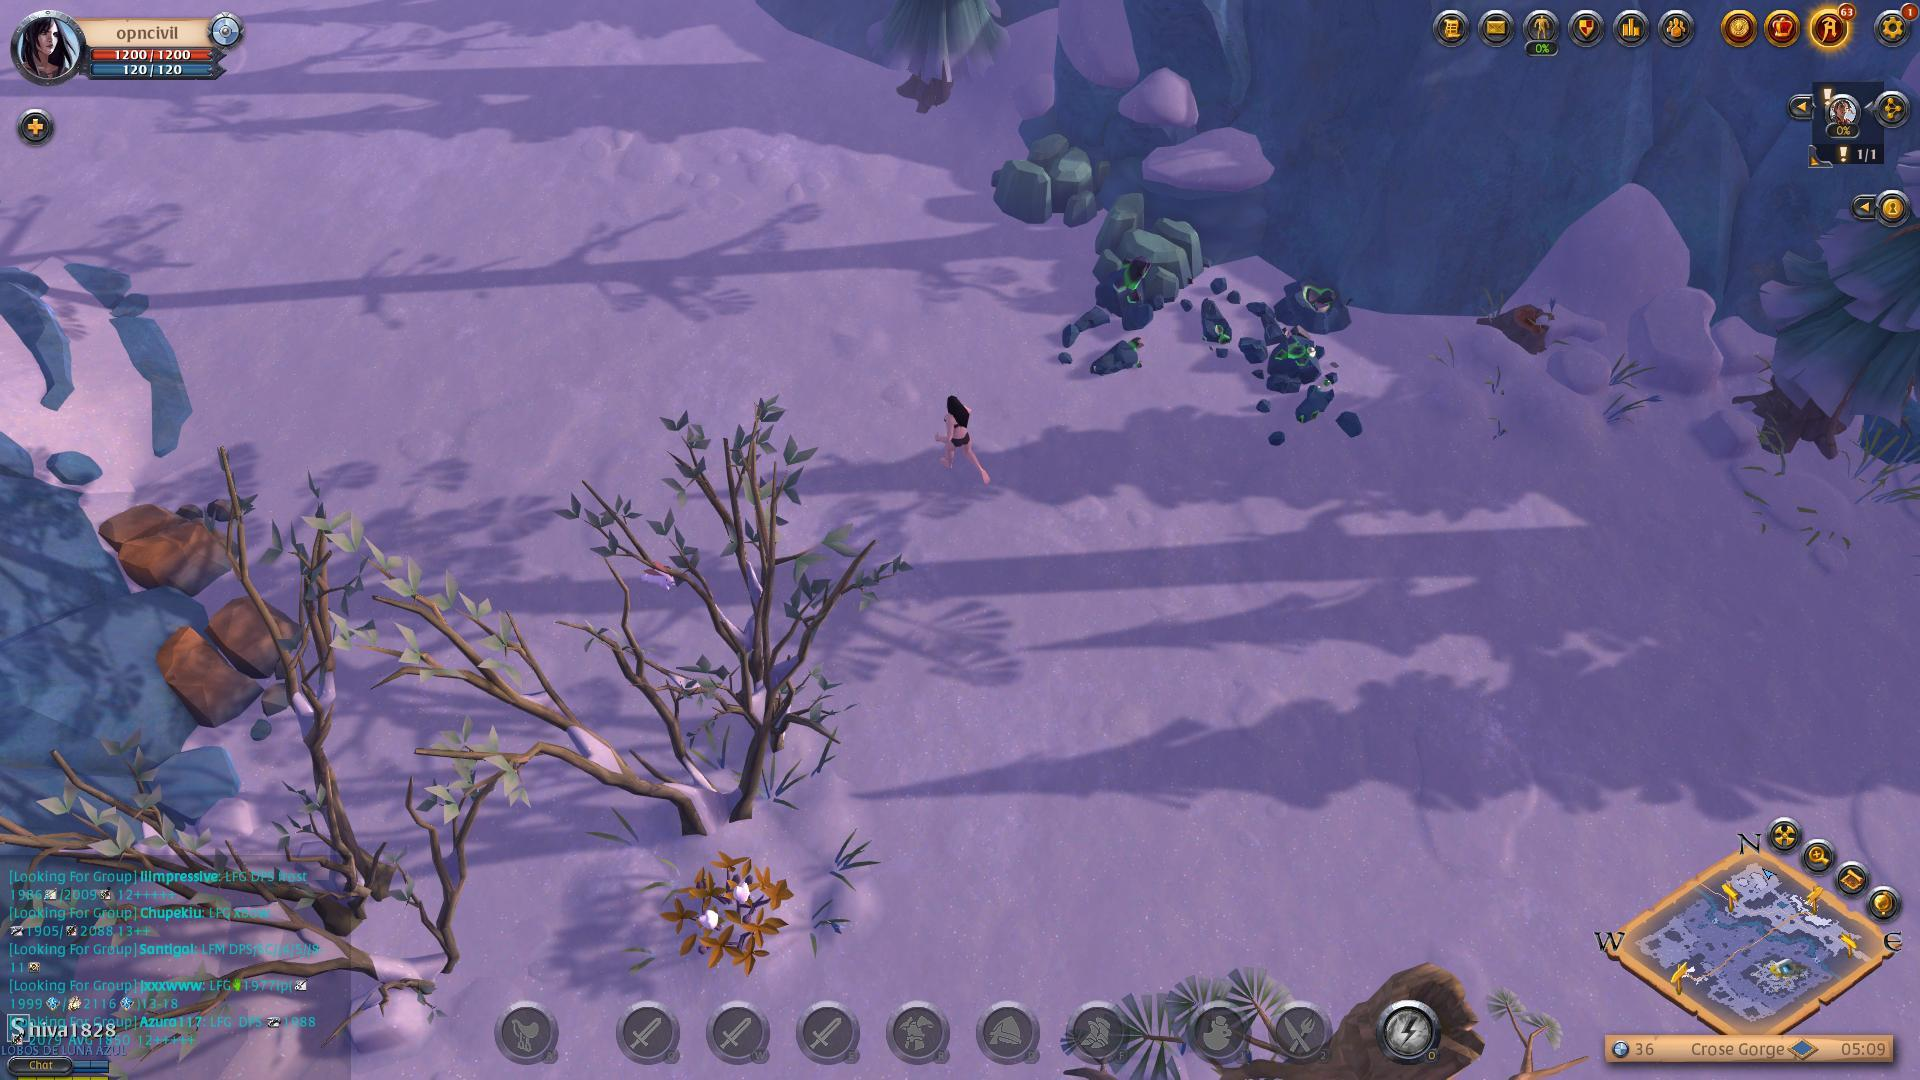cotton: (657, 831, 803, 980)
limestone: (86, 500, 239, 604), (149, 604, 289, 707)
sandstone: (981, 124, 1109, 233)
tin_ore: (1098, 253, 1166, 327)
